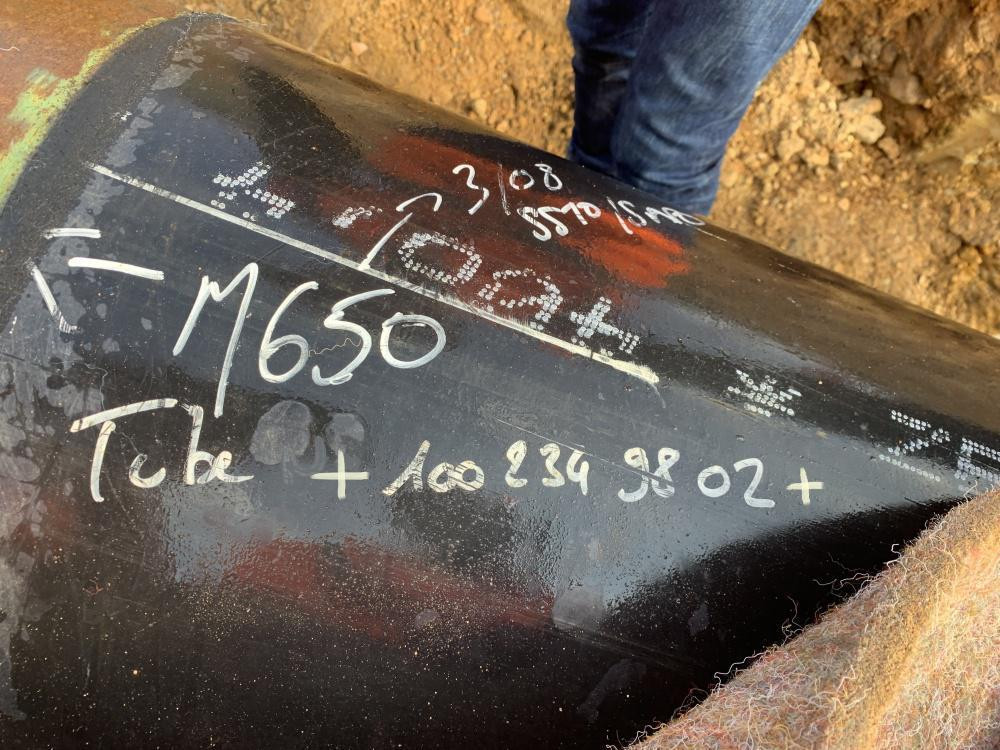+: (311, 449, 369, 496), (784, 467, 824, 502)
0: (382, 311, 450, 371), (698, 465, 732, 499), (428, 462, 457, 494), (457, 460, 485, 492)
1: (386, 440, 432, 498)
2: (734, 456, 776, 511), (504, 438, 531, 488)
3: (538, 442, 568, 491)
4: (567, 442, 591, 497)
5: (309, 286, 397, 388)
6: (262, 282, 320, 385)
8: (653, 446, 682, 499)
9: (616, 447, 650, 503)
M: (170, 260, 260, 421)
